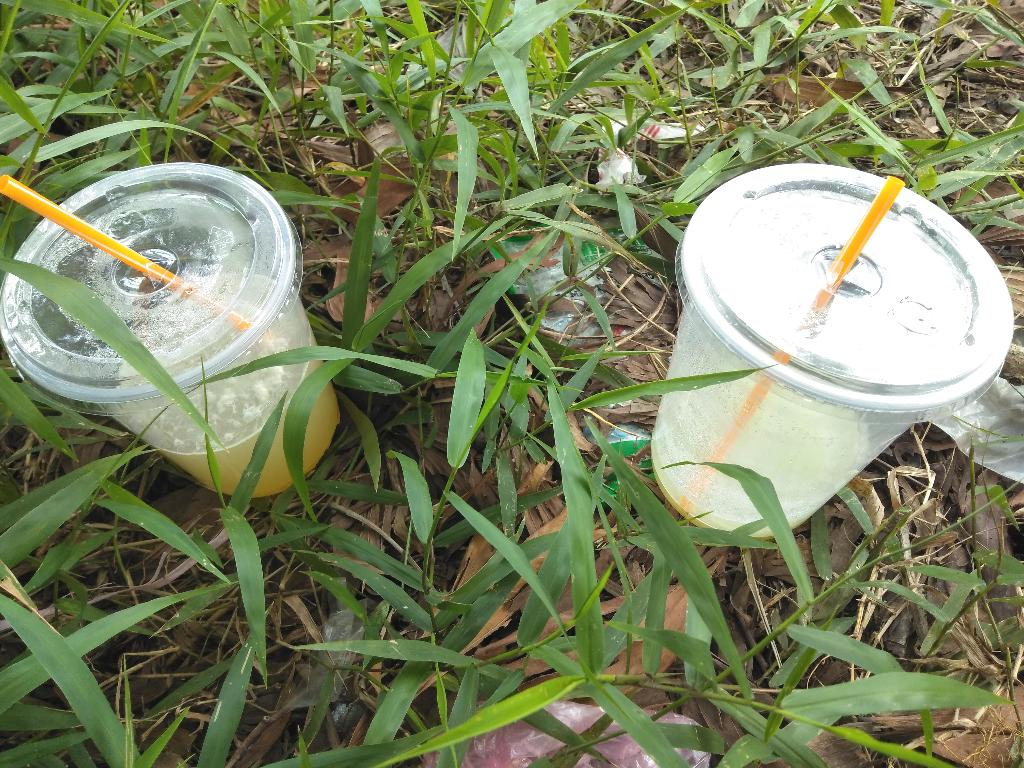garbage: (606, 166, 1011, 563), (0, 129, 317, 553), (652, 164, 1013, 528), (16, 163, 314, 491), (0, 273, 210, 483)
